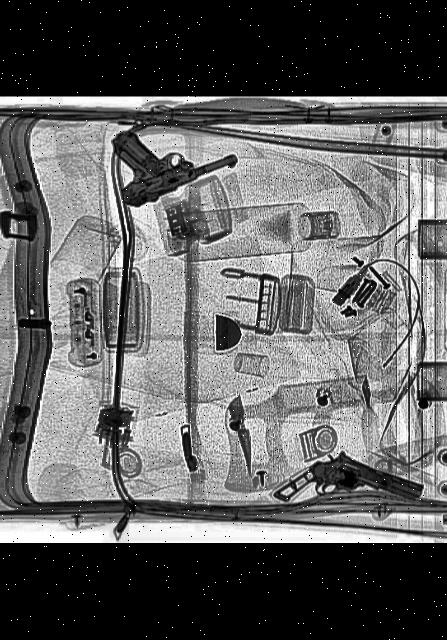Gun: (84, 101, 241, 210), (268, 438, 426, 542)
